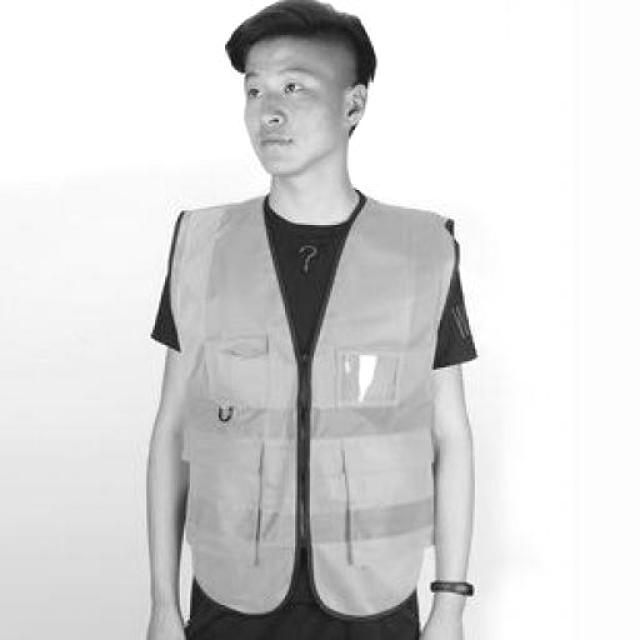face_nomask: (244, 72, 318, 156)
head_nohelmet: (229, 2, 370, 67)
person: (134, 0, 498, 640)
vest: (167, 192, 452, 613)
